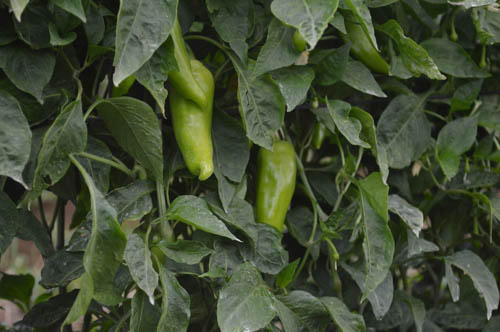ChiliPepper: (166, 64, 220, 178), (252, 140, 295, 236), (160, 28, 208, 106)
